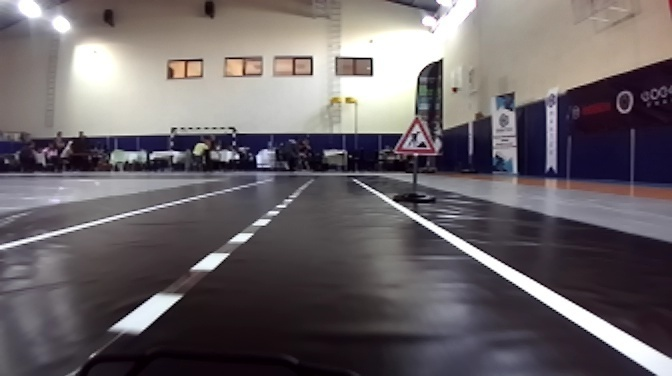yol_yapimi: (388, 113, 440, 159)
